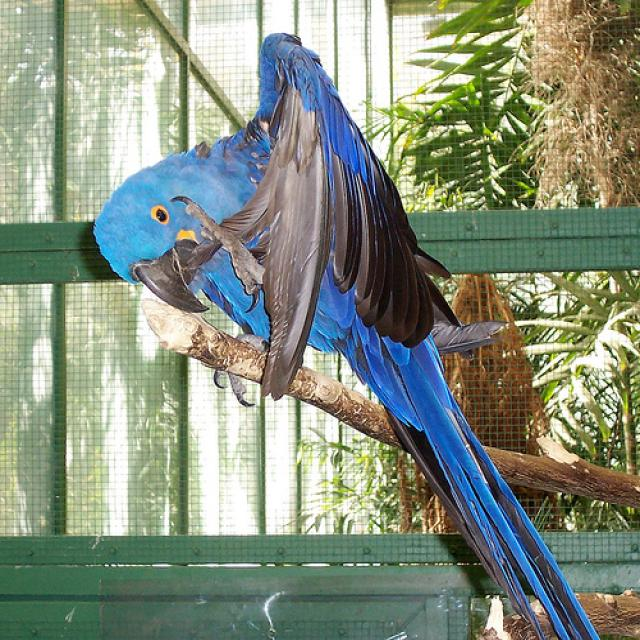bird: (92, 33, 600, 640)
